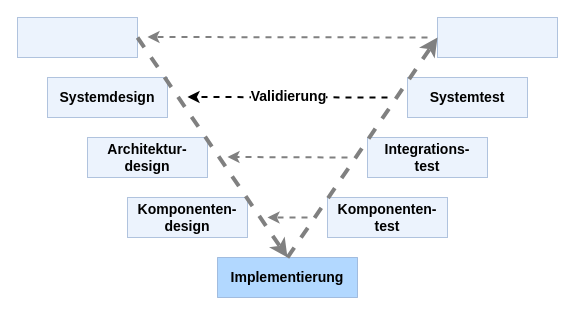
Some shapes in this 575 by 315 pixel diagram are drawn without their labels. The shapes that lost their labels are listed below. From the top down, each one's centre as x and y in pixels, then its label:
At pixel 77 37: "Anforderungs-analyse".
At pixel 497 37: "Abnahmetest".
